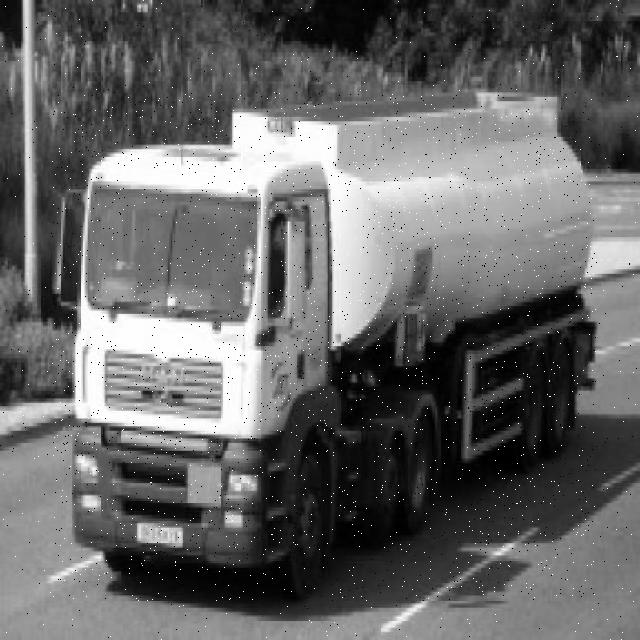Box Truck: (52, 92, 597, 601)
